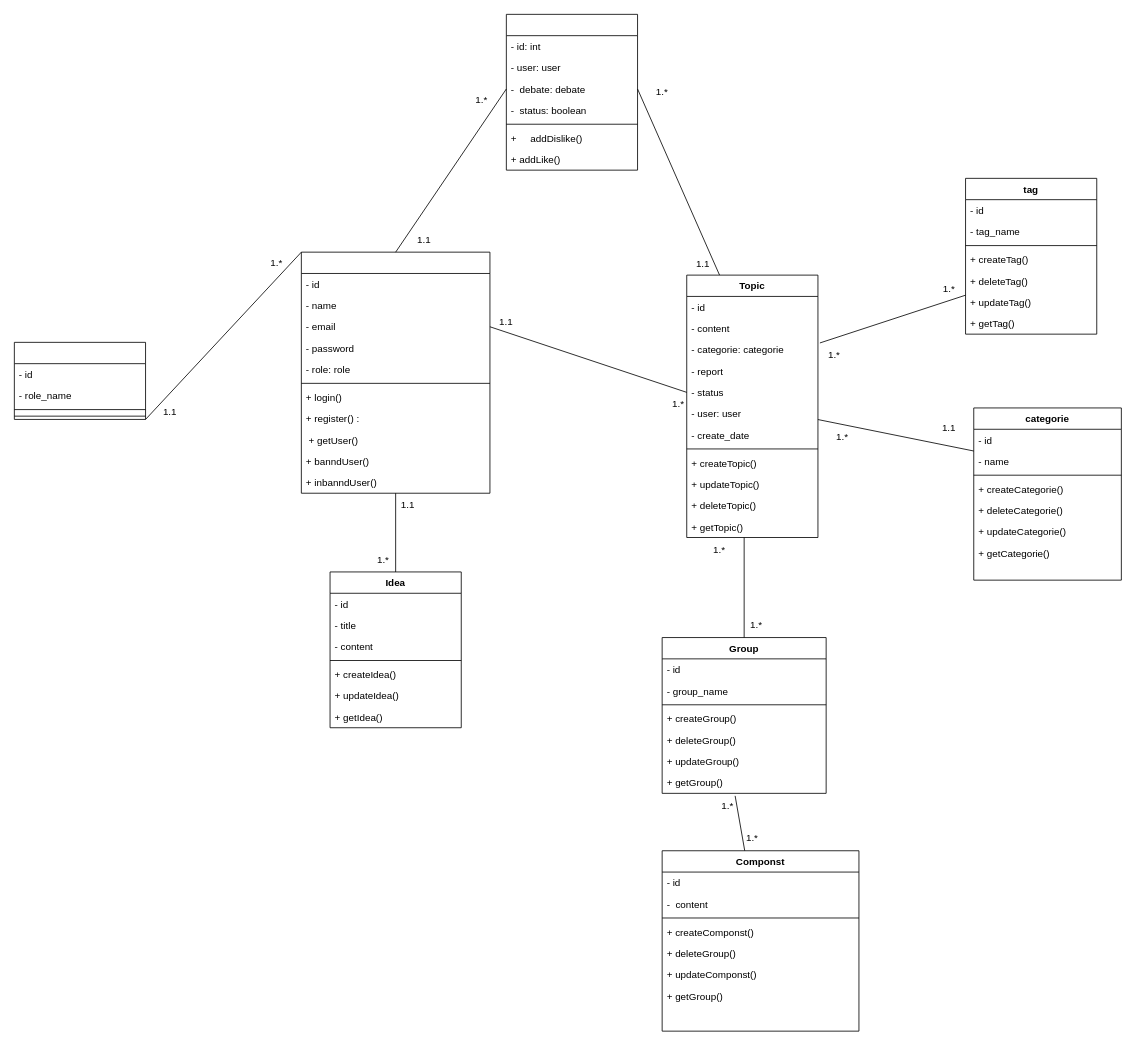
The diagram is 1136 pixels wide and 1048 high, and some of its shapes have lost their labels. The box of each missing label's shape, as (x1, y1, x2, y2) in pixels:
Feedback: (506, 14, 638, 170)
roles: (14, 342, 146, 419)
users: (301, 251, 490, 493)
